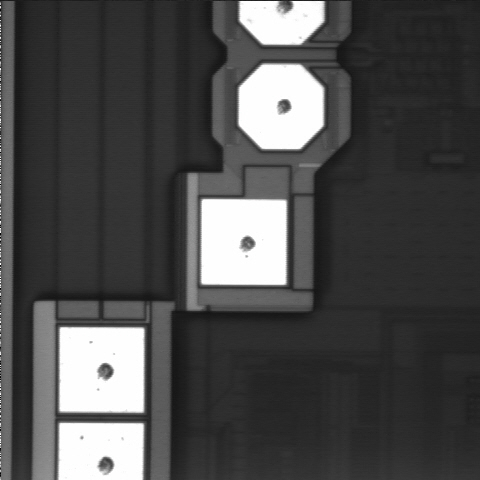pad: (201, 199, 286, 285), (60, 327, 144, 413), (239, 64, 323, 149)
